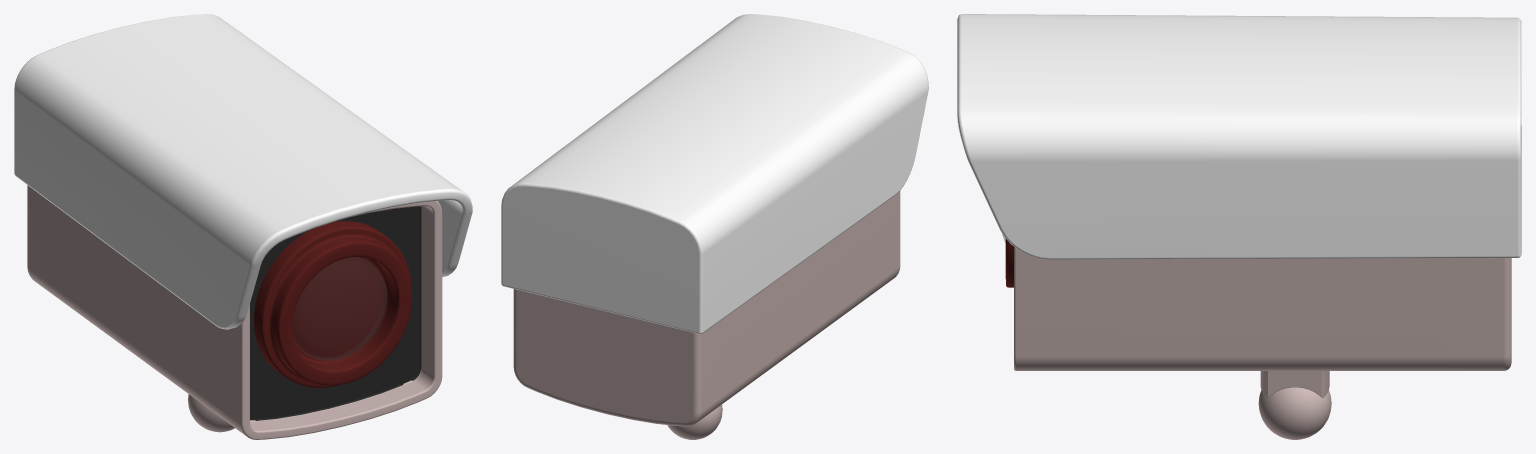
Rendered from camera.glb.
3 renders of one model, left to right at view 1: azimuth 30°, elevation 25°; view 2: azimuth 150°, elevation 25°; view 3: azimuth 270°, elevation 25°, orthographic. The views are drawn at different scales.
Visible parts, largest first — view 1: move.立方体.001, move.立方体, move.柱体, move.球体, 柱体.001; view 2: move.立方体.001, move.立方体, 柱体.001; view 3: move.立方体.001, move.立方体, 柱体.001, move.立方体.002.
Boxes of the visible parts, bbox=[...] form: move.立方体.001: bbox=[14, 14, 472, 329]; move.立方体: bbox=[27, 185, 442, 439]; move.柱体: bbox=[254, 221, 412, 387]; move.球体: bbox=[292, 257, 386, 360]; 柱体.001: bbox=[188, 394, 234, 432]; move.立方体.001: bbox=[501, 14, 928, 334]; move.立方体: bbox=[513, 191, 900, 426]; 柱体.001: bbox=[667, 404, 722, 439]; move.立方体.001: bbox=[957, 14, 1521, 259]; move.立方体: bbox=[1014, 246, 1511, 370]; 柱体.001: bbox=[1258, 387, 1331, 439]; move.立方体.002: bbox=[1260, 371, 1329, 398].
Size of the model in its own units: 2.21 by 3.18 by 4.25.
